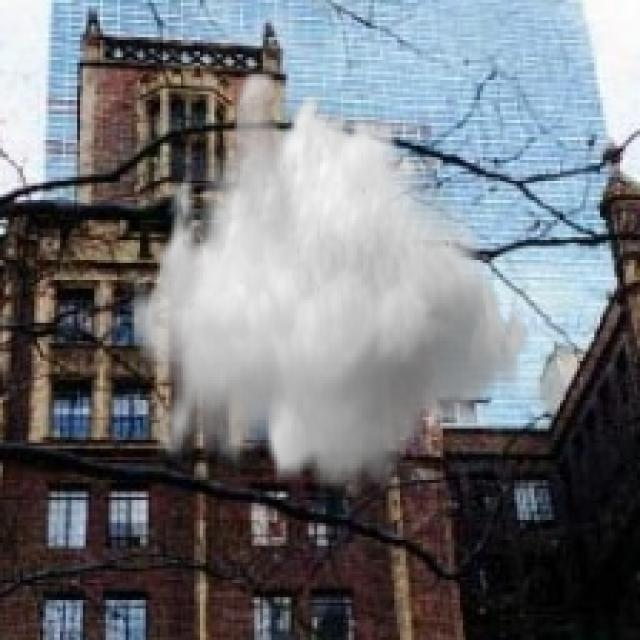smoke: (132, 72, 537, 497)
